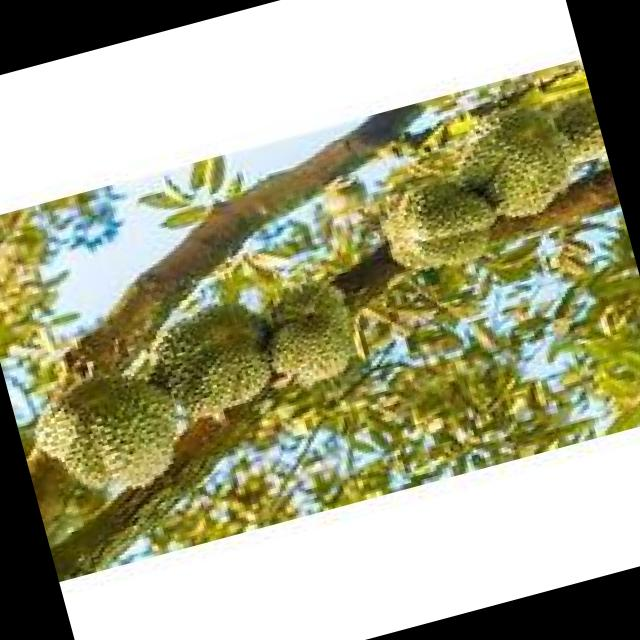fruit: (0, 295, 209, 522), (125, 280, 293, 446), (355, 152, 519, 302), (242, 266, 380, 408)
